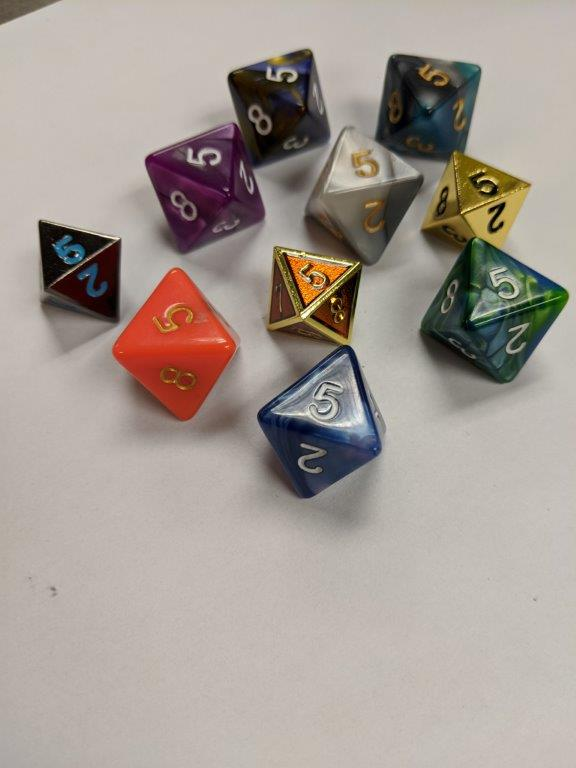d8-5: (420, 236, 572, 387), (252, 343, 387, 499), (110, 265, 238, 427), (304, 126, 423, 267), (138, 122, 265, 253), (227, 47, 330, 166), (375, 53, 479, 160), (428, 149, 531, 254), (33, 215, 121, 328), (264, 245, 362, 344)
